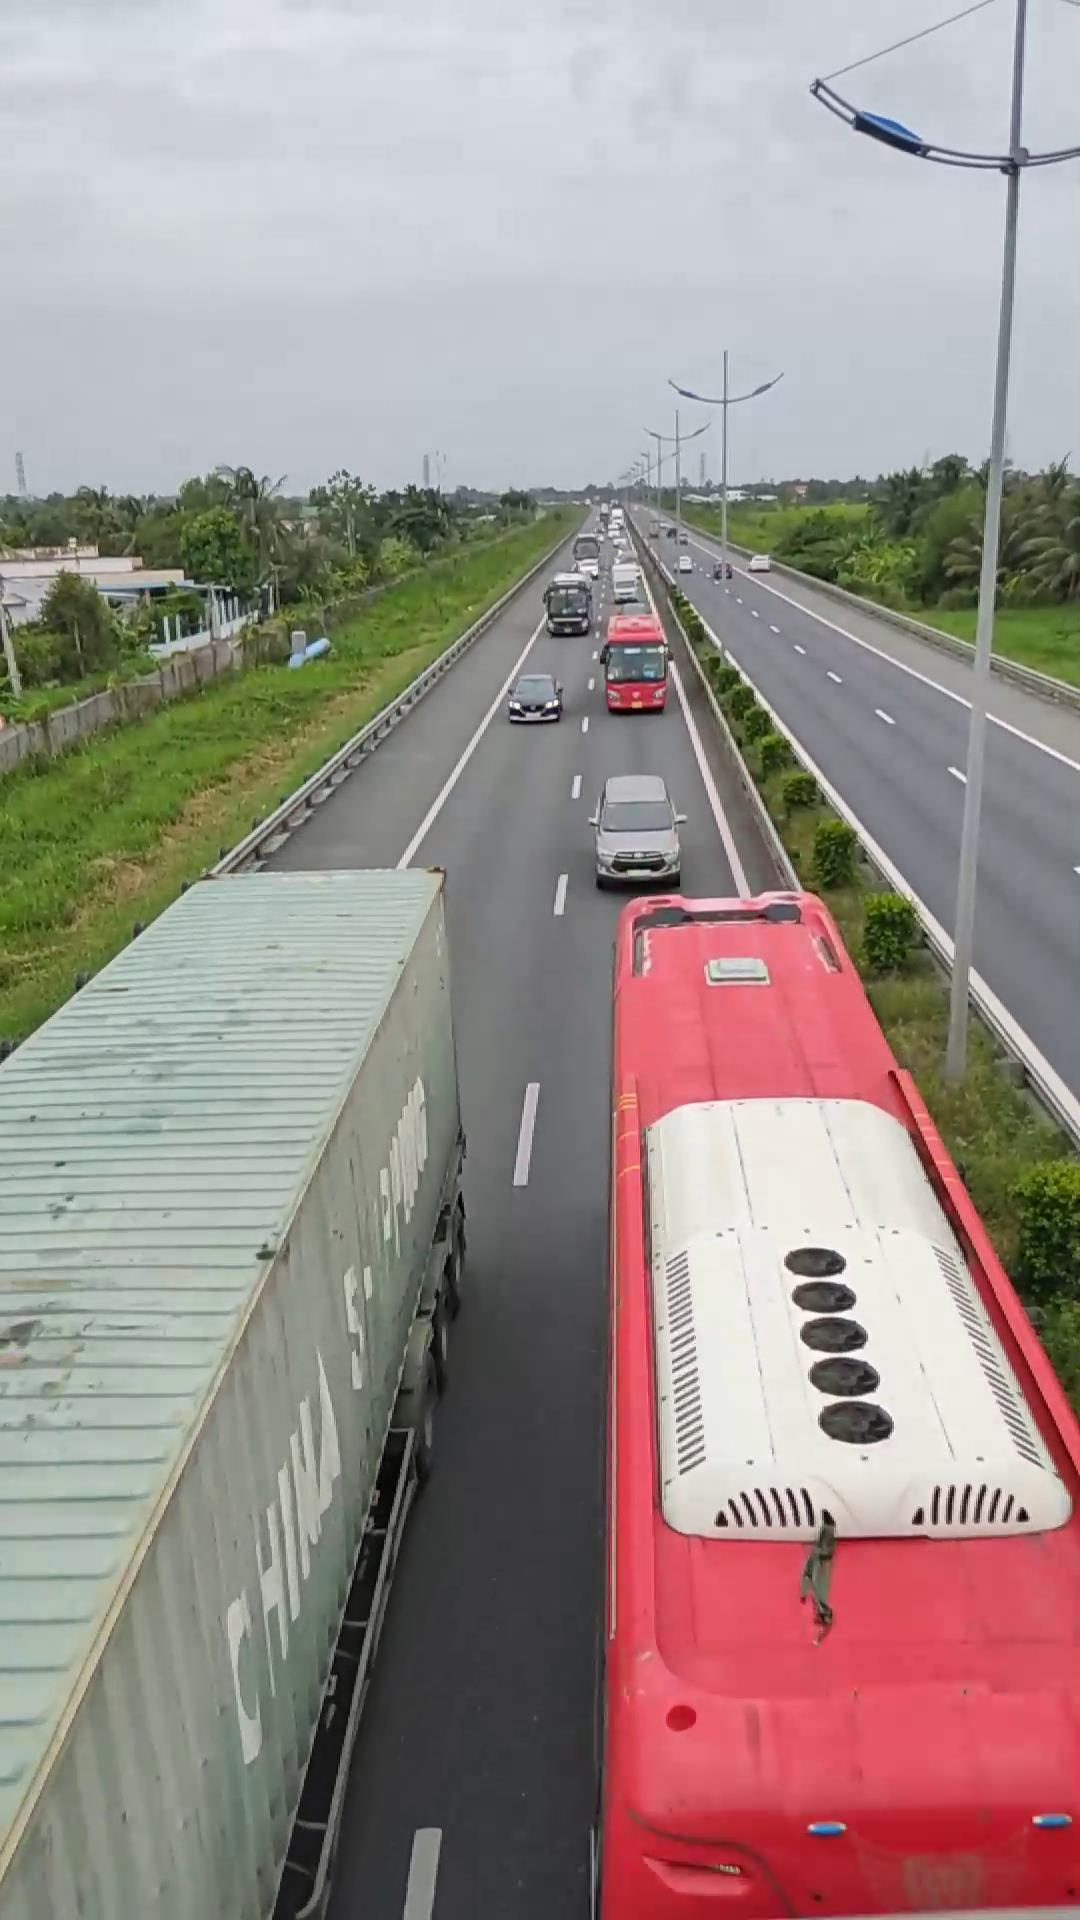bus: (600, 886, 1076, 1908)
car: (585, 773, 684, 891)
container: (0, 869, 469, 1919)
